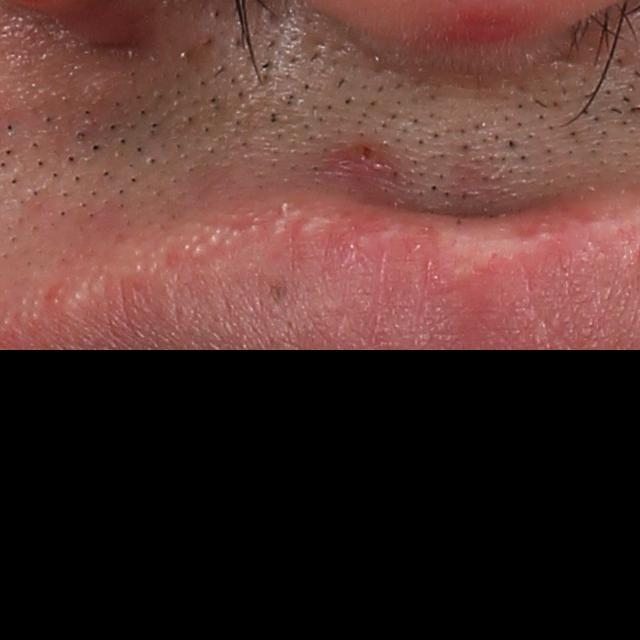papule: (344, 139, 388, 171)
